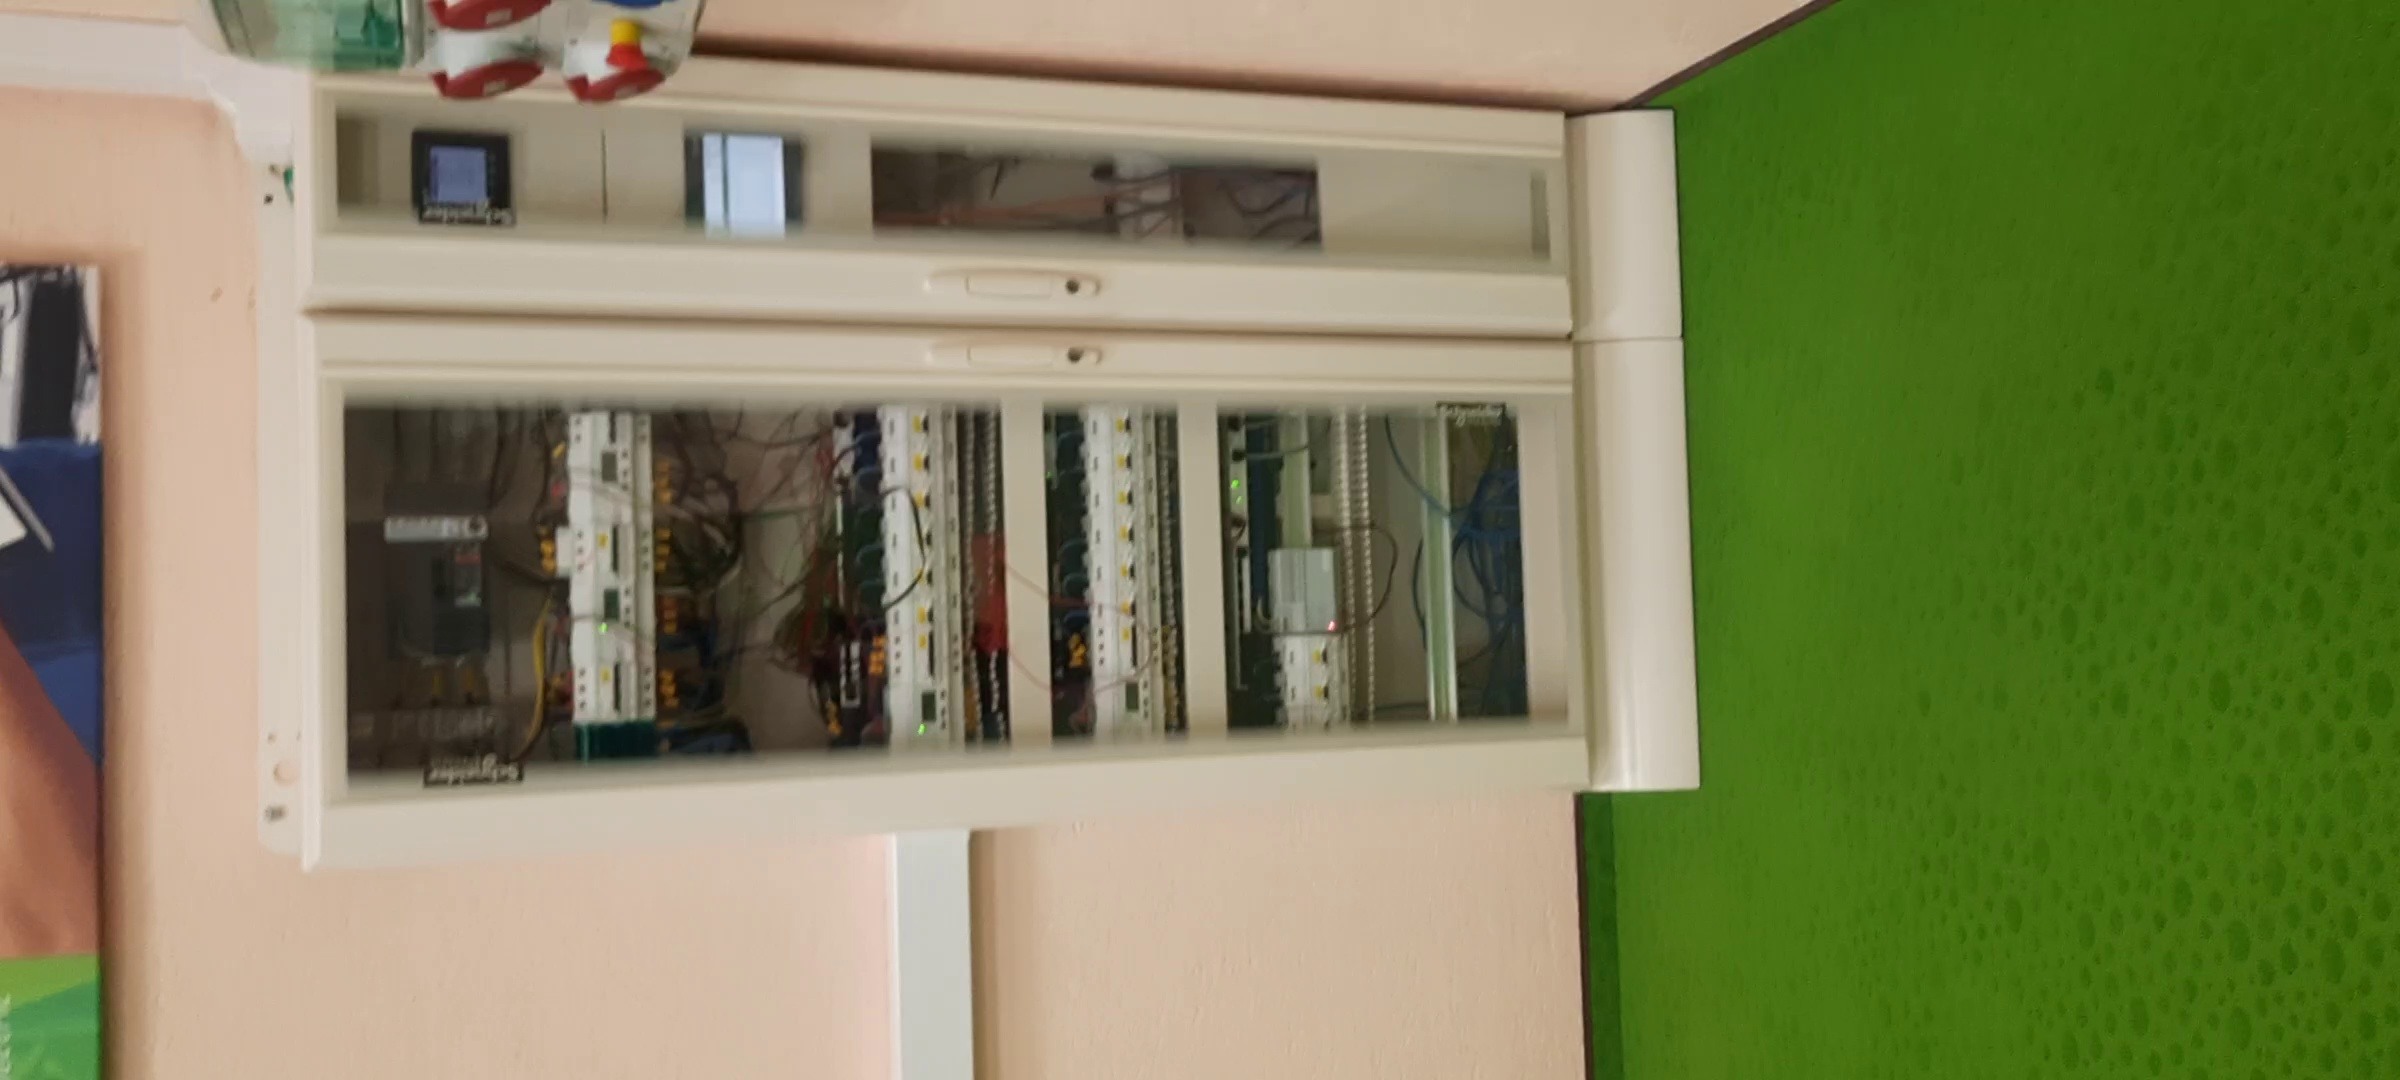stand1: (257, 63, 1705, 834)
